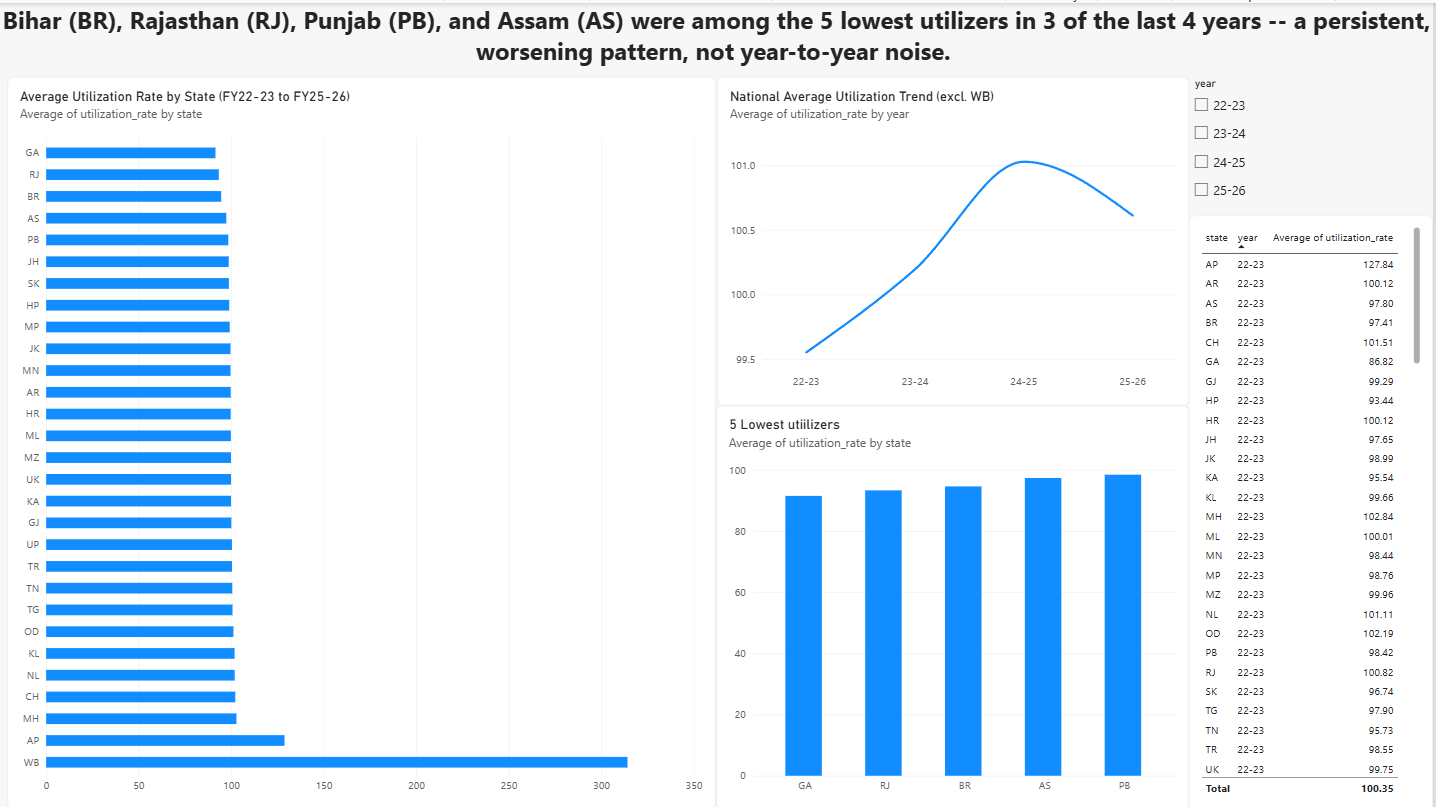

What the dashboard file says about the page in this screenshot:
{"tool":"powerbi","page":{"name":"Page 1","canvas":[1920,1080],"ordinal":0},"visuals":[{"type":"clusteredBarChart","title":"Average Utilization Rate by State (FY22-23 to FY25-26)","fields":{"Category":["mgnrega_powerbi.state"],"Y":["Avg(mgnrega_powerbi.utilization_rate)"]},"box":[10.3,98.8,948.9,981.8],"z":0},{"type":"lineChart","title":"National Average Utilization Trend (excl. WB)","fields":{"Category":["mgnrega_powerbi.year"],"Y":["Avg(mgnrega_powerbi.utilization_rate)"]},"box":[961.2,98.8,631.9,440.5],"z":1000},{"type":"textbox","box":[0,0,1920.4,98.8],"z":2000},{"type":"slicer","fields":{"Values":["mgnrega_powerbi.year"]},"box":[1593.1,98.8,234.6,185.2],"z":3000},{"type":"clusteredColumnChart","title":"5 Lowest utiilizers ","fields":{"Category":["mgnrega_powerbi.state"],"Y":["Avg(mgnrega_powerbi.utilization_rate)"]},"box":[959.2,539.3,634,541.3],"z":4000},{"type":"tableEx","fields":{"Values":["mgnrega_powerbi.state","mgnrega_powerbi.year","Avg(mgnrega_powerbi.utilization_rate)"]},"box":[1593.1,284,327.3,796.6],"z":5000}]}

Visuals, with their boxes in screenshot pixels (x1, y1, x2, y2), scaled from the page's 1920x1080 canvas onto the 1436x807 screenshot:
"Average Utilization Rate by State (FY22-23 to FY25-26)" clusteredBarChart: (8,74,717,806)
"National Average Utilization Trend (excl. WB)" lineChart: (719,74,1192,403)
textbox: (0,0,1435,74)
slicer - mgnrega_powerbi.year: (1192,74,1367,212)
"5 Lowest utiilizers " clusteredColumnChart: (717,403,1192,806)
tableEx - mgnrega_powerbi.state x mgnrega_powerbi.year: (1192,212,1435,806)
